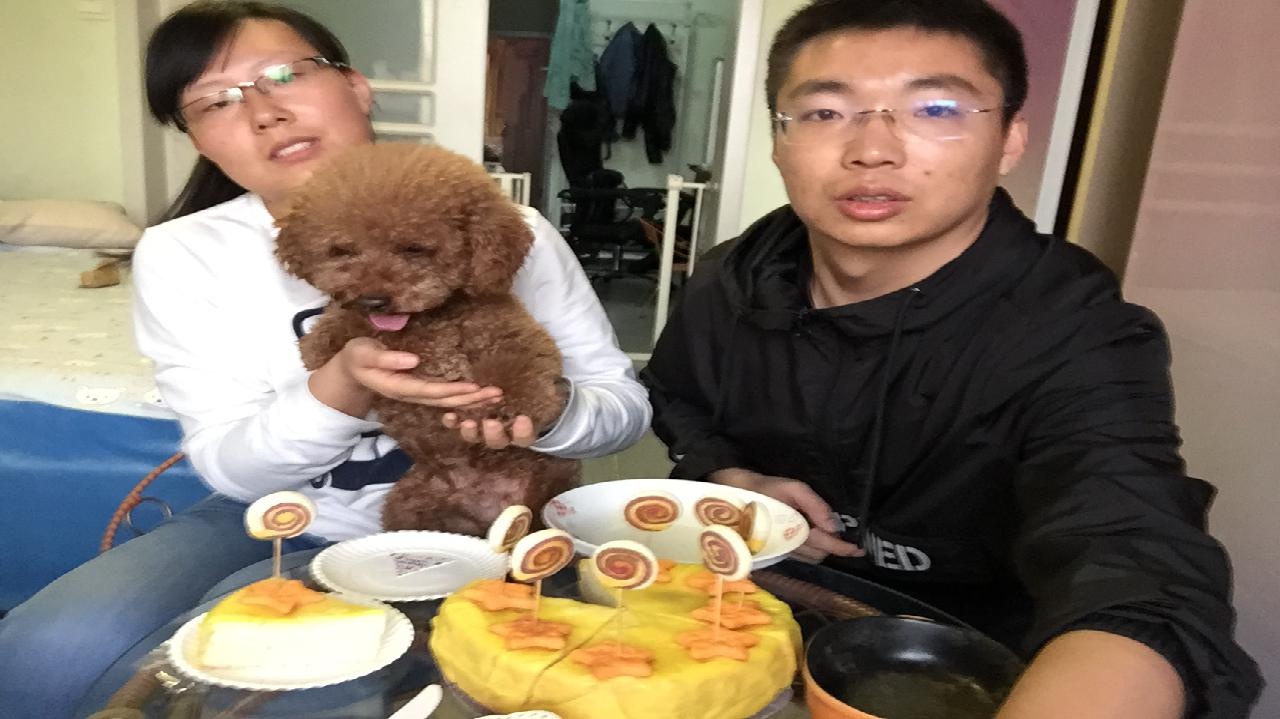zhuangzhuang: (276, 145, 572, 458)
